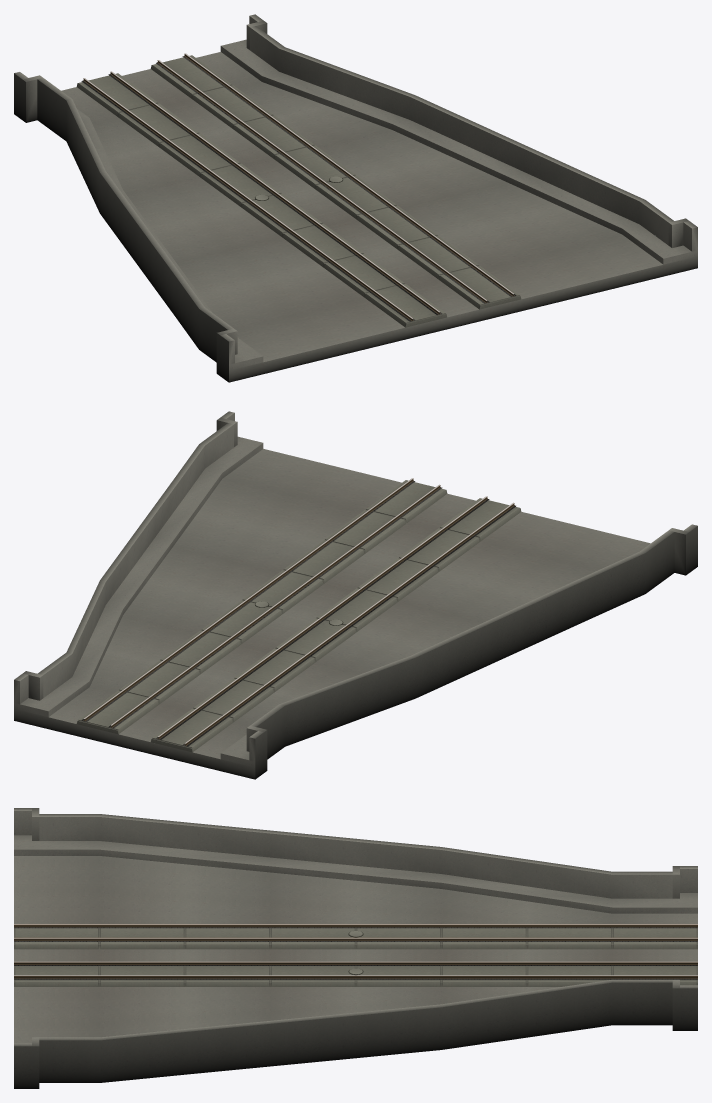
Rendered from 2_TO_4RAIL_KONKURI.glb.
3 renders of one model, top to bottom at view 1: azimuth 30°, elevation 25°; view 2: azimuth 150°, elevation 25°; view 3: azimuth 270°, elevation 25°, orthographic. The views are drawn at different scales.
Parts seen in each view (by area): view 1: obj4; view 2: obj4; view 3: obj4.
Part boxes in pixels (box(x1,y1,x2,y2)): obj4: box(14, 14, 697, 382); obj4: box(14, 411, 697, 779); obj4: box(14, 808, 697, 1088).
Bounding box in the file's own units: 82.36 × 6.88 × 100.
3 materials, 2 textured.
